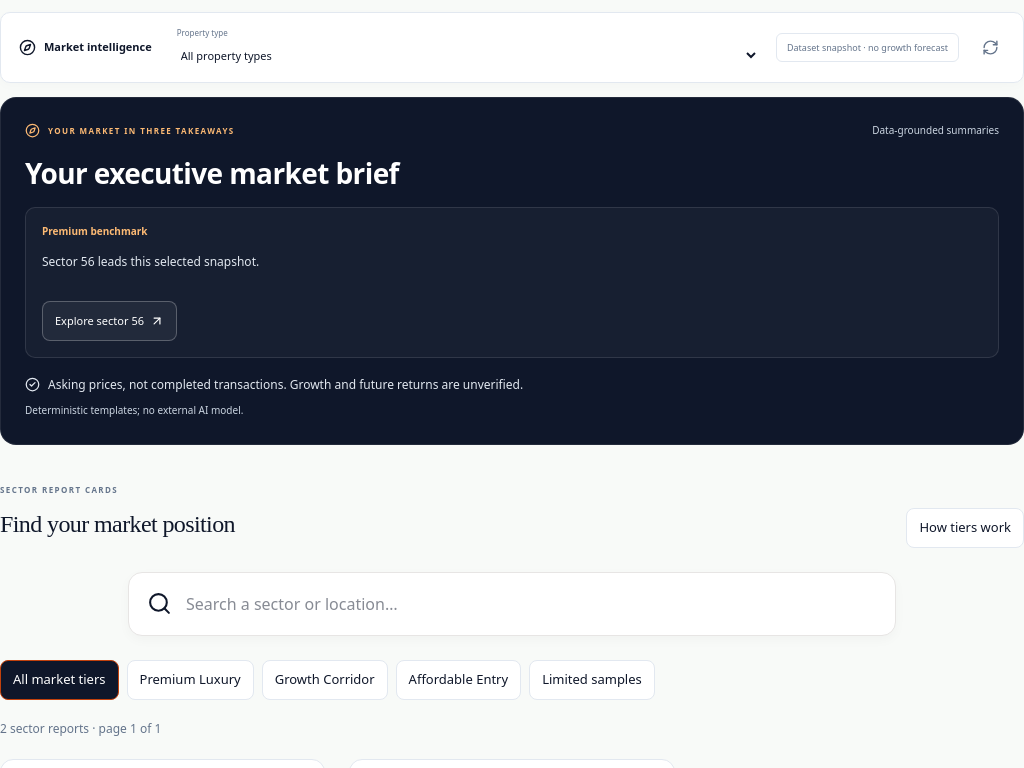
live search highlights suggestions and keyboard selection opens the exact sector without scrolling
The image size is (1024, 768).
Expected: the heading "Find your market position" is shown, [0, 506, 235, 542]
Type "56" into the dropdown named "Search sector reports".
click(532, 604); type("56")  # box [186, 585, 877, 623]
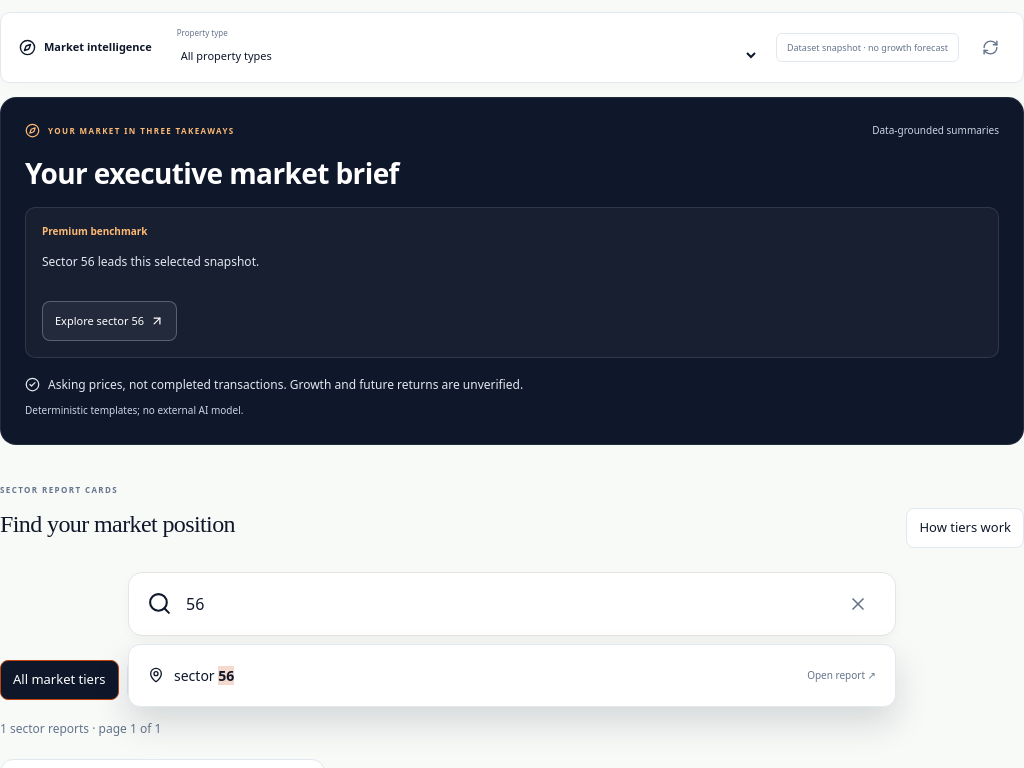
Expected: the text "56" is shown, [218, 666, 234, 685]
Press ArrowDown in the dropdown named "Search sector reports", box [186, 585, 825, 623]
Press Enter in the dropdown named "Search sector reports", box [186, 585, 825, 623]
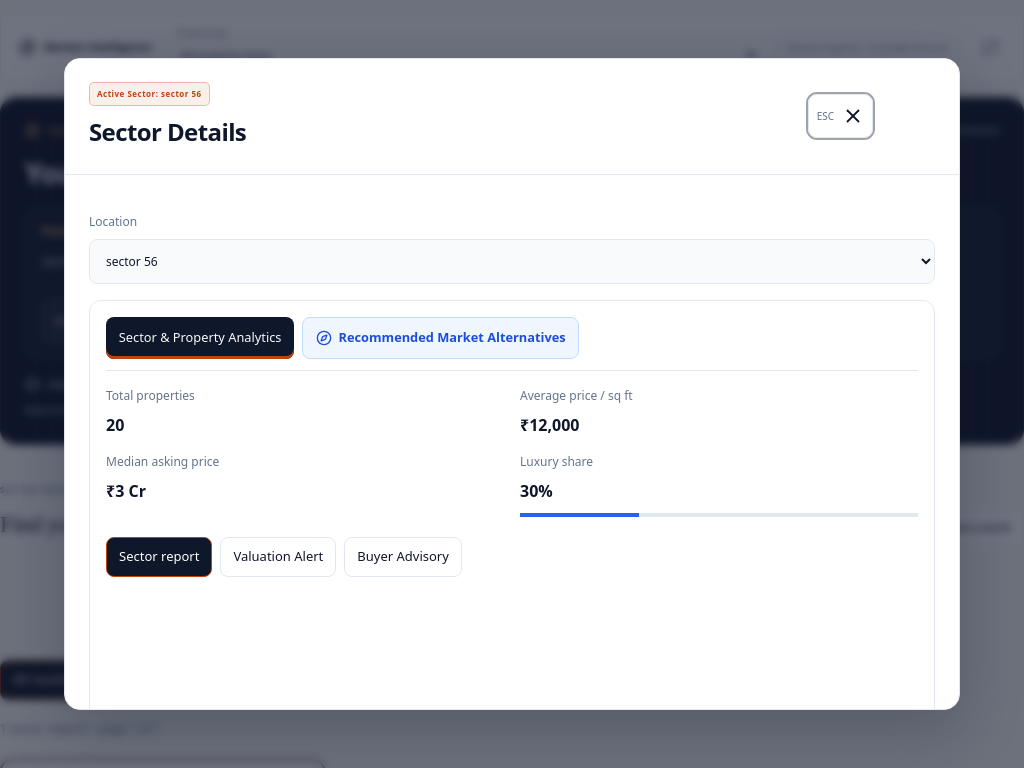
Expected: the dialog "Sector Details" is shown
Expected: the text "Active Sector: sector 56" is shown, [89, 82, 210, 106]
Click the button with aria-label "Close detail view".
click(840, 116)  # box [808, 94, 873, 138]
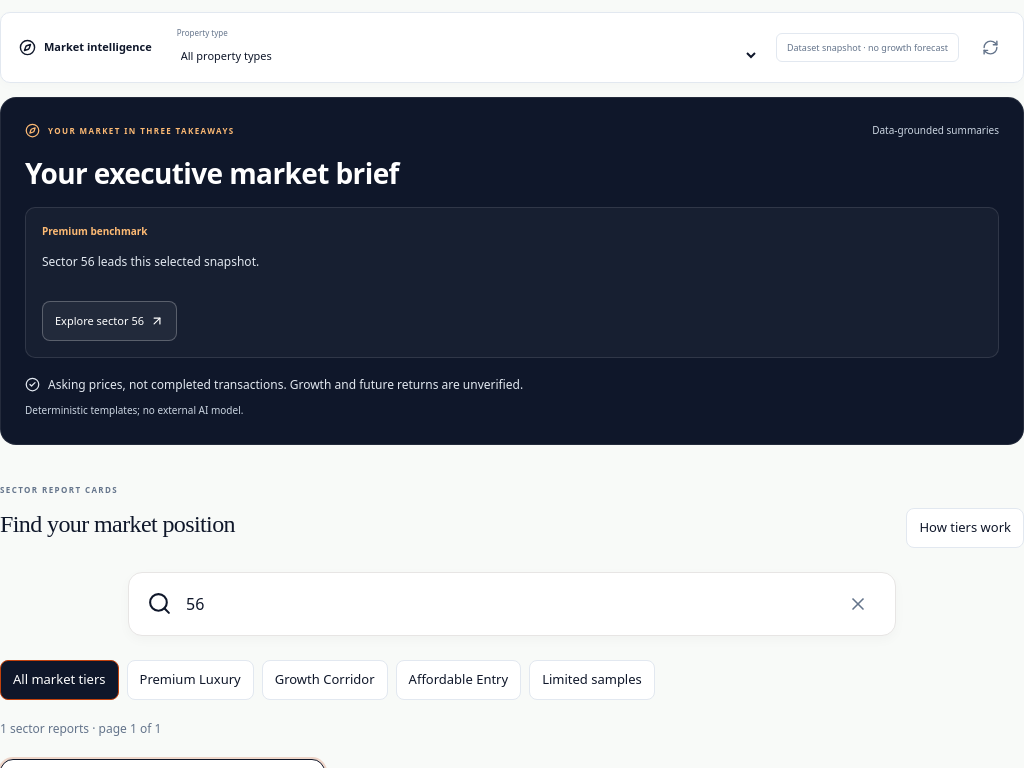
Click the button named "Clear sector search".
click(858, 604)  # box [839, 585, 877, 623]
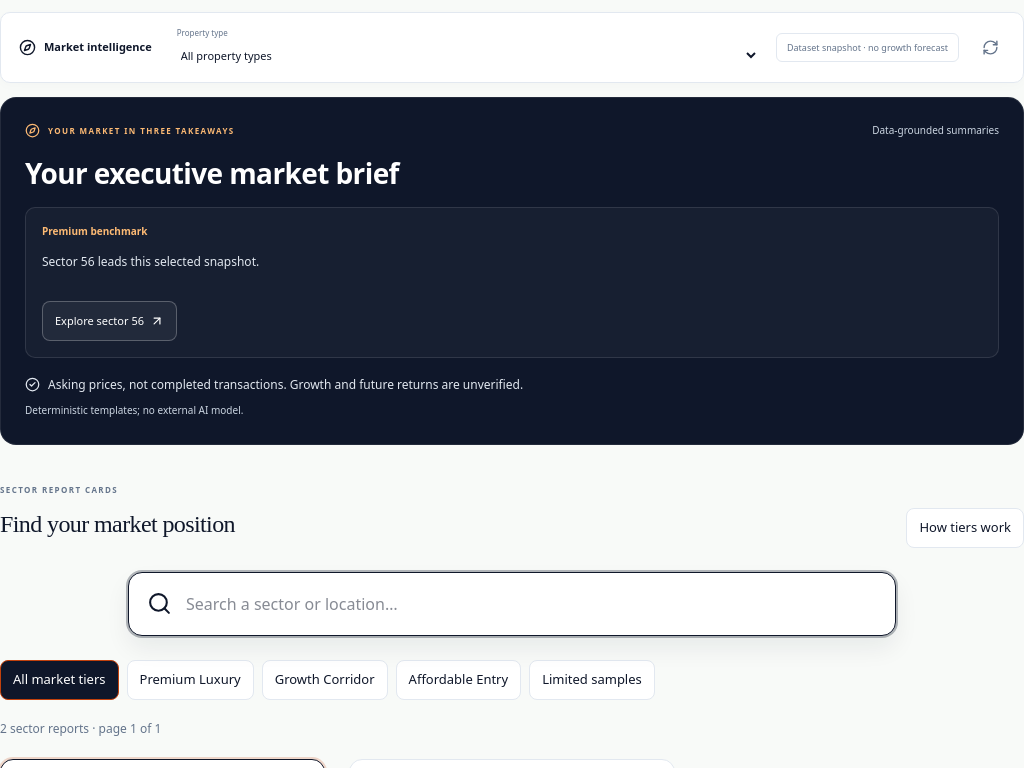
Expected: the list "sector 56 Open report ↗" is not shown
Expected: the dropdown named "Search sector reports" is empty, [186, 585, 877, 623]
